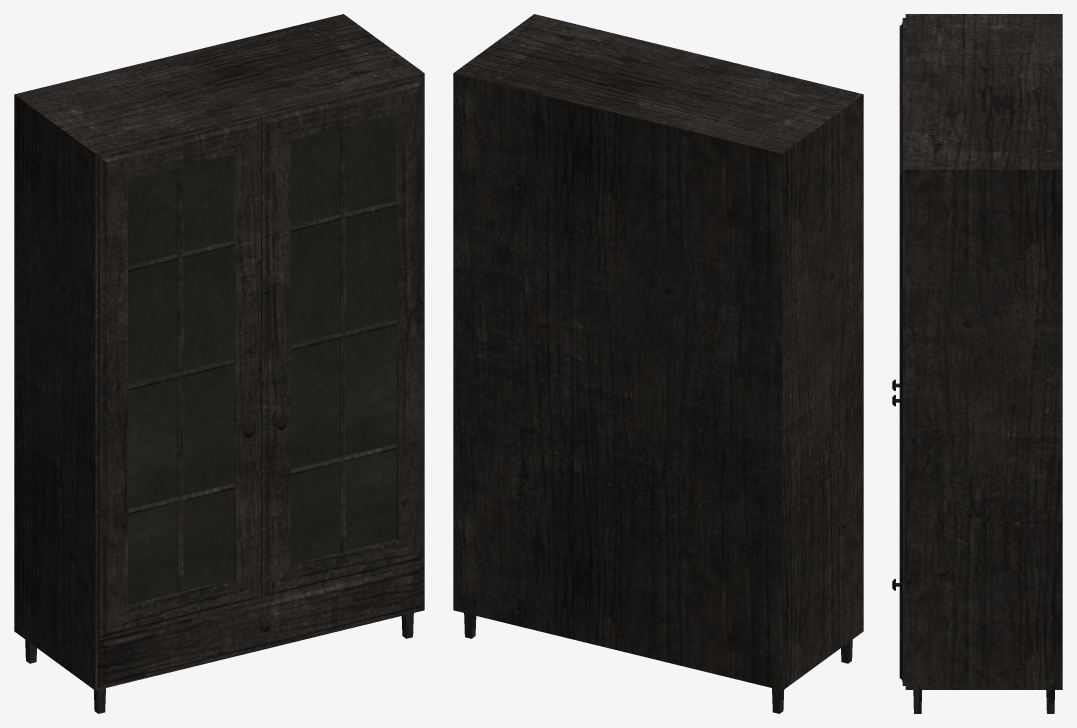
File: wardrobe_mp_2.dae
3 views of the same model, side by side, from view 1: azimuth 30°, elevation 25°; view 2: azimuth 150°, elevation 25°; view 3: azimuth 270°, elevation 25° (orthographic). The views are drawn at different scales.
Parts seen in each view (by area): view 1: wardrobe_mp_2, wardrobe_mp_2_drawer; view 2: wardrobe_mp_2; view 3: wardrobe_mp_2, wardrobe_mp_2_drawer.
Boxes of the visible parts, x1,y1,x2,y2 form: wardrobe_mp_2: (14, 14, 424, 713); wardrobe_mp_2_drawer: (98, 561, 423, 688); wardrobe_mp_2: (453, 14, 863, 713); wardrobe_mp_2: (892, 14, 1062, 713); wardrobe_mp_2_drawer: (892, 579, 905, 685).
Size of the model in its own units: 1.22 by 0.5645 by 2.
Materials: 2 (2 with a texture image).
